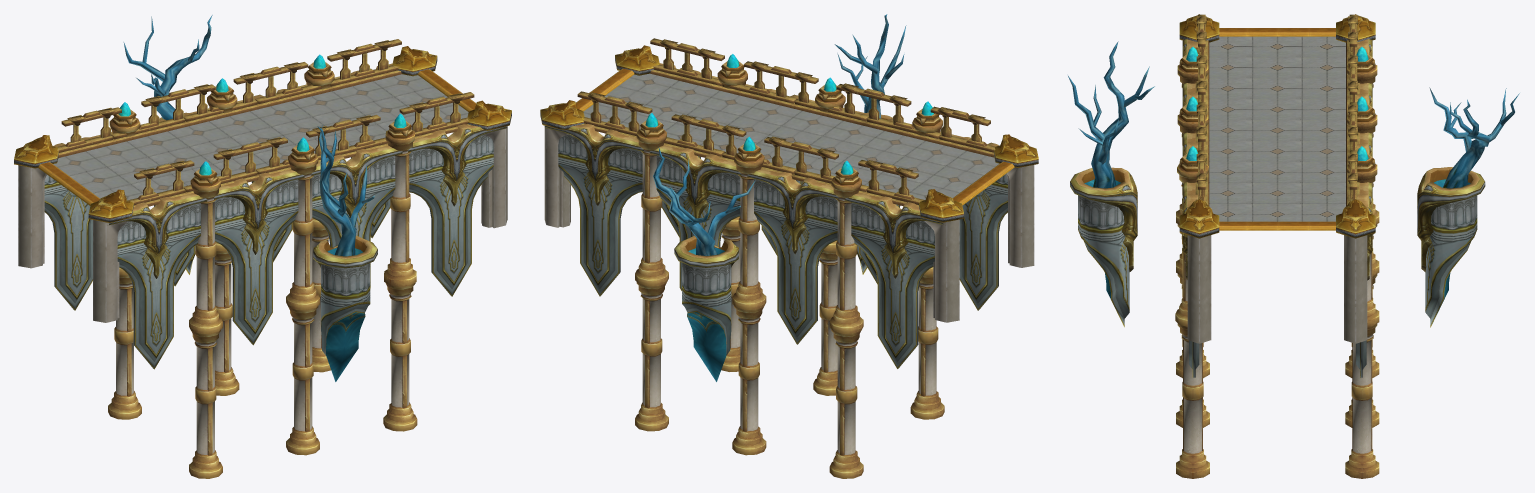
File: Bridge2.fbx
3 views of the same model, side by side, from view 1: azimuth 30°, elevation 25°; view 2: azimuth 150°, elevation 25°; view 3: azimuth 270°, elevation 25° (orthographic). The views are drawn at different scales.
Visible parts, largest first — view 1: Bridge2; view 2: Bridge2; view 3: Bridge2.
Part boxes in pixels (x1,y1,x2,y2): Bridge2: (14, 15, 511, 478); Bridge2: (540, 14, 1038, 478); Bridge2: (1068, 14, 1519, 478).
Bounding box in the file's own units: 16.32 × 13.02 × 14.47.
